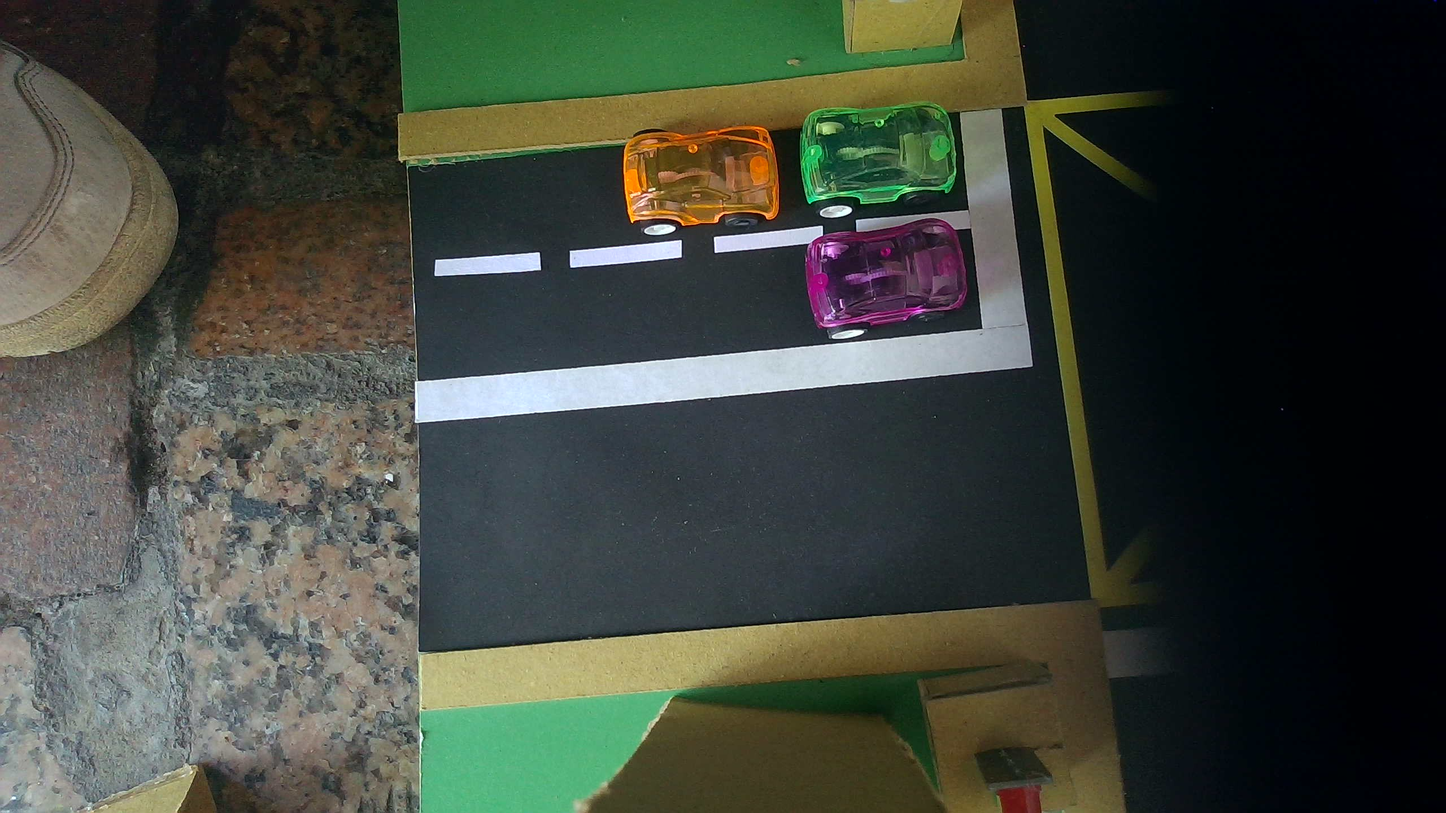Mobil hijau: (800, 103, 957, 218)
Mobil orange: (622, 125, 780, 236)
Mobil ungu: (805, 218, 966, 339)
